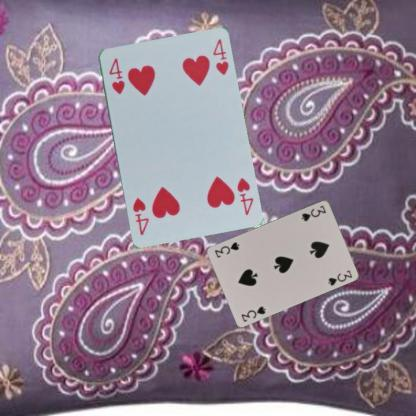3s: (239, 303, 267, 323), (299, 203, 327, 222)
4h: (234, 175, 254, 216), (106, 56, 126, 96)
